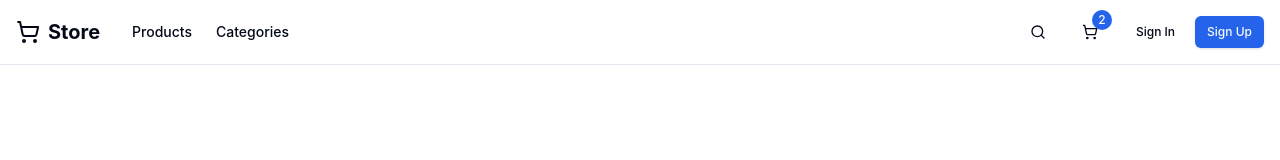
Test: Navigation - Search Autocomplete › should close search when clicking outside
The image size is (1280, 160).
Click the button named "Search products".
click(1038, 32)  # box left=1020, top=14, right=1056, bottom=50
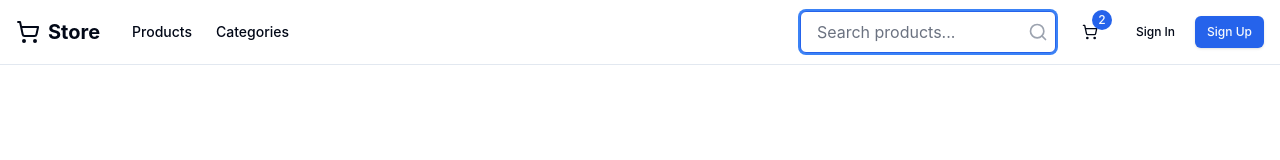
Expected: the field with test id "search-input" is shown, left=800, top=11, right=1056, bottom=53
# Click on the logo to trigger outside click
Click the link "Store".
click(58, 32)  # box left=16, top=18, right=100, bottom=46
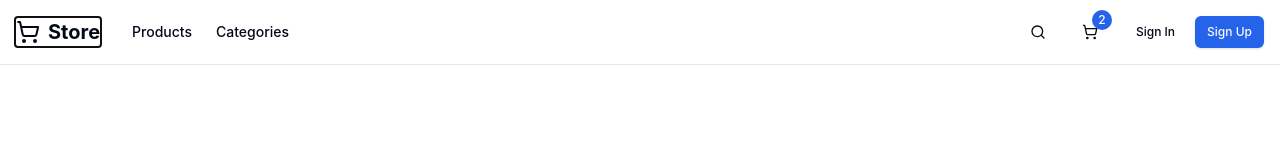
Expected: the field with test id "search-input" is gone
